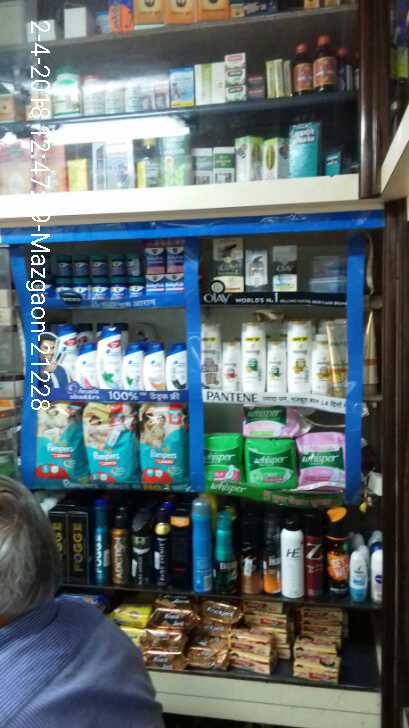vicks: (26, 250, 145, 293), (145, 239, 185, 293)
